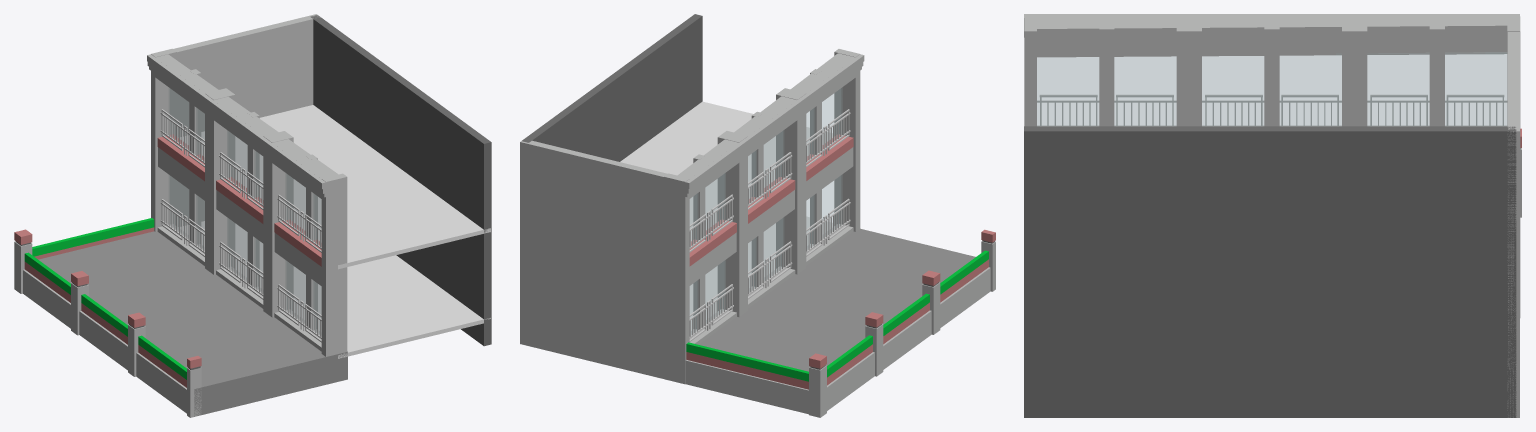
Rendered from Corner_Ground_Front_Recessed_L.fbx.
3 views of the same model, side by side, from view 1: azimuth 30°, elevation 25°; view 2: azimuth 150°, elevation 25°; view 3: azimuth 270°, elevation 25° (orthographic). The views are drawn at different scales.
Parts seen in each view (by area): view 1: Walls3, Floor_Inside, Floor_Outside, Inside_Wall, Railings, GlassWindows, Hedge4, Hedge5; view 2: Walls3, Floor_Outside, Inside_Wall, Floor_Inside, Railings, GlassWindows, Hedge4, Hedge5; view 3: Inside_Wall, Walls3, GlassWindows, Railings.
Part boxes in pixels (x1,y1,x2,y2): Walls3: (14, 14, 347, 417); Floor_Inside: (178, 105, 490, 358); Floor_Outside: (38, 231, 347, 416); Inside_Wall: (310, 15, 491, 346); Railings: (160, 109, 321, 342); GlassWindows: (169, 88, 321, 334); Hedge4: (14, 134, 321, 387); Hedge5: (24, 218, 186, 379); Walls3: (520, 49, 995, 417); Floor_Outside: (699, 228, 975, 371); Inside_Wall: (522, 14, 702, 161); Floor_Inside: (620, 101, 832, 330); Railings: (689, 109, 850, 341); GlassWindows: (690, 88, 842, 334); Hedge4: (686, 134, 995, 389); Hedge5: (686, 250, 988, 381); Inside_Wall: (1024, 126, 1516, 417); Walls3: (1024, 14, 1521, 417); GlassWindows: (1037, 52, 1506, 125); Railings: (1037, 94, 1507, 126).
Bounding box in the file's own units: 39.76 × 25.55 × 40.15.
